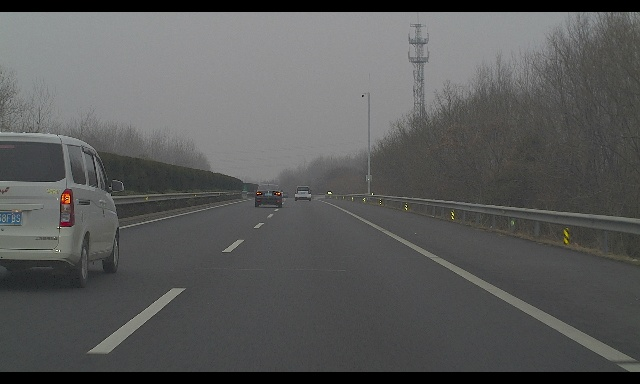car: (0, 132, 124, 287), (255, 184, 283, 208), (294, 186, 312, 201), (274, 190, 283, 198), (281, 192, 289, 198)
